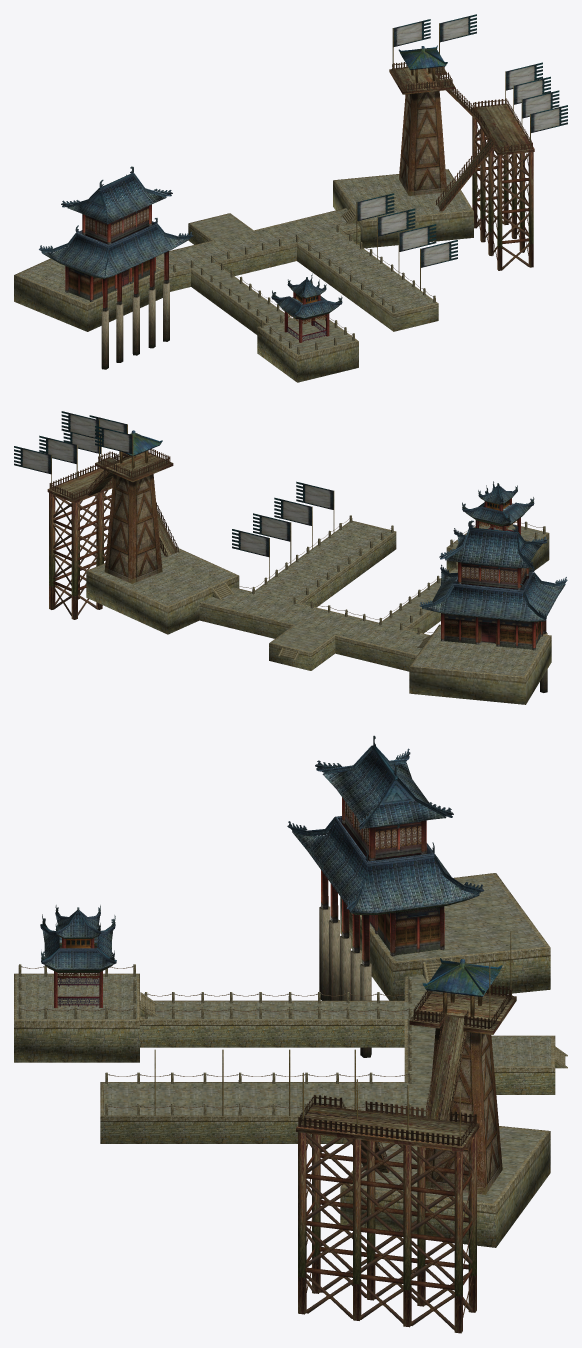
The model's file is cj_ferry01.glb.
3 views of the same model, one above another, from view 1: azimuth 30°, elevation 25°; view 2: azimuth 150°, elevation 25°; view 3: azimuth 270°, elevation 25° (orthographic). The views are drawn at different scales.
Visible parts, largest first — view 1: CJ_ferry01_02, CJ_ferry01_01, CJ_ferry01_buil1_roof, CJ_ferry01_flag01_a, CJ_ferry01_tower01, CJ_ferry01_toweralpha, CJ_ferry01_tower03, CJ_ferry01_buil1_gidung, CJ_ferry01_tower02, CJ_ferry01_buil1_door, CJ_ferry01_buil1_gidung_a, CJ_ferry01_winlight (+3 smaller); view 2: CJ_ferry01_02, CJ_ferry01_01, CJ_ferry01_buil1_roof, CJ_ferry01_flag01_a, CJ_ferry01_tower01, CJ_ferry01_toweralpha, CJ_ferry01_buil1_door, CJ_ferry01_tower03, CJ_ferry01_tower02, CJ_ferry01_buil1_gidung_a, CJ_ferry01_buil1_gidung, CJ_ferry01_winlight (+2 smaller); view 3: CJ_ferry01_02, CJ_ferry01_01, CJ_ferry01_toweralpha, CJ_ferry01_buil1_roof, CJ_ferry01_tower03, CJ_ferry01_tower01, CJ_ferry01_tower02, CJ_ferry01_buil1_gidung, CJ_ferry01_buil1_door, CJ_ferry01_buil1_gidung_a, CJ_ferry01_roofa, CJ_ferry01_winlight (+2 smaller).
Part boxes in pixels (x1,y1,x2,y2): CJ_ferry01_02: [14, 169, 473, 382]; CJ_ferry01_01: [18, 171, 470, 354]; CJ_ferry01_buil1_roof: [42, 173, 342, 319]; CJ_ferry01_flag01_a: [357, 14, 567, 267]; CJ_ferry01_tower01: [389, 46, 534, 211]; CJ_ferry01_toweralpha: [392, 45, 532, 269]; CJ_ferry01_tower03: [472, 117, 533, 270]; CJ_ferry01_buil1_gidung: [65, 190, 169, 369]; CJ_ferry01_tower02: [389, 67, 534, 210]; CJ_ferry01_buil1_door: [68, 206, 149, 300]; CJ_ferry01_buil1_gidung_a: [39, 166, 193, 276]; CJ_ferry01_winlight: [85, 208, 148, 236]; CJ_ferry01_02: [86, 515, 551, 704]; CJ_ferry01_01: [91, 522, 547, 676]; CJ_ferry01_buil1_roof: [422, 483, 564, 621]; CJ_ferry01_flag01_a: [14, 411, 333, 556]; CJ_ferry01_tower01: [47, 430, 173, 583]; CJ_ferry01_toweralpha: [49, 434, 178, 615]; CJ_ferry01_buil1_door: [444, 562, 540, 649]; CJ_ferry01_tower03: [49, 492, 103, 619]; CJ_ferry01_tower02: [48, 452, 177, 556]; CJ_ferry01_buil1_gidung_a: [419, 520, 567, 620]; CJ_ferry01_buil1_gidung: [441, 536, 547, 692]; CJ_ferry01_winlight: [461, 566, 526, 582]; CJ_ferry01_02: [14, 873, 567, 1247]; CJ_ferry01_01: [17, 875, 550, 1203]; CJ_ferry01_toweralpha: [298, 958, 512, 1330]; CJ_ferry01_buil1_roof: [40, 745, 478, 972]; CJ_ferry01_tower03: [298, 1131, 476, 1333]; CJ_ferry01_tower01: [296, 959, 516, 1194]; CJ_ferry01_tower02: [296, 991, 516, 1147]; CJ_ferry01_buil1_gidung: [319, 780, 444, 1057]; CJ_ferry01_buil1_door: [345, 812, 440, 955]; CJ_ferry01_buil1_gidung_a: [287, 735, 484, 911]; CJ_ferry01_roofa: [21, 966, 408, 1108]; CJ_ferry01_winlight: [345, 801, 421, 849].
Size of the model in its own units: 92.49 by 36.22 by 54.53.
17 materials, 17 textured.
